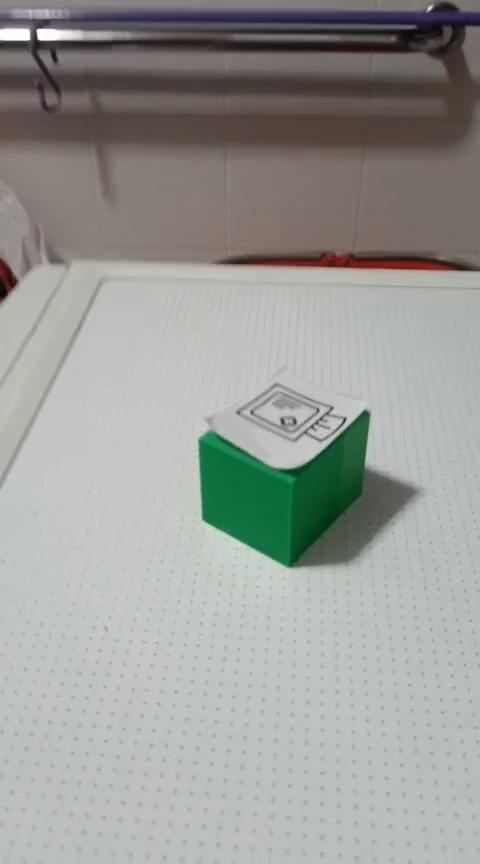Gauze: (197, 365, 371, 567)
